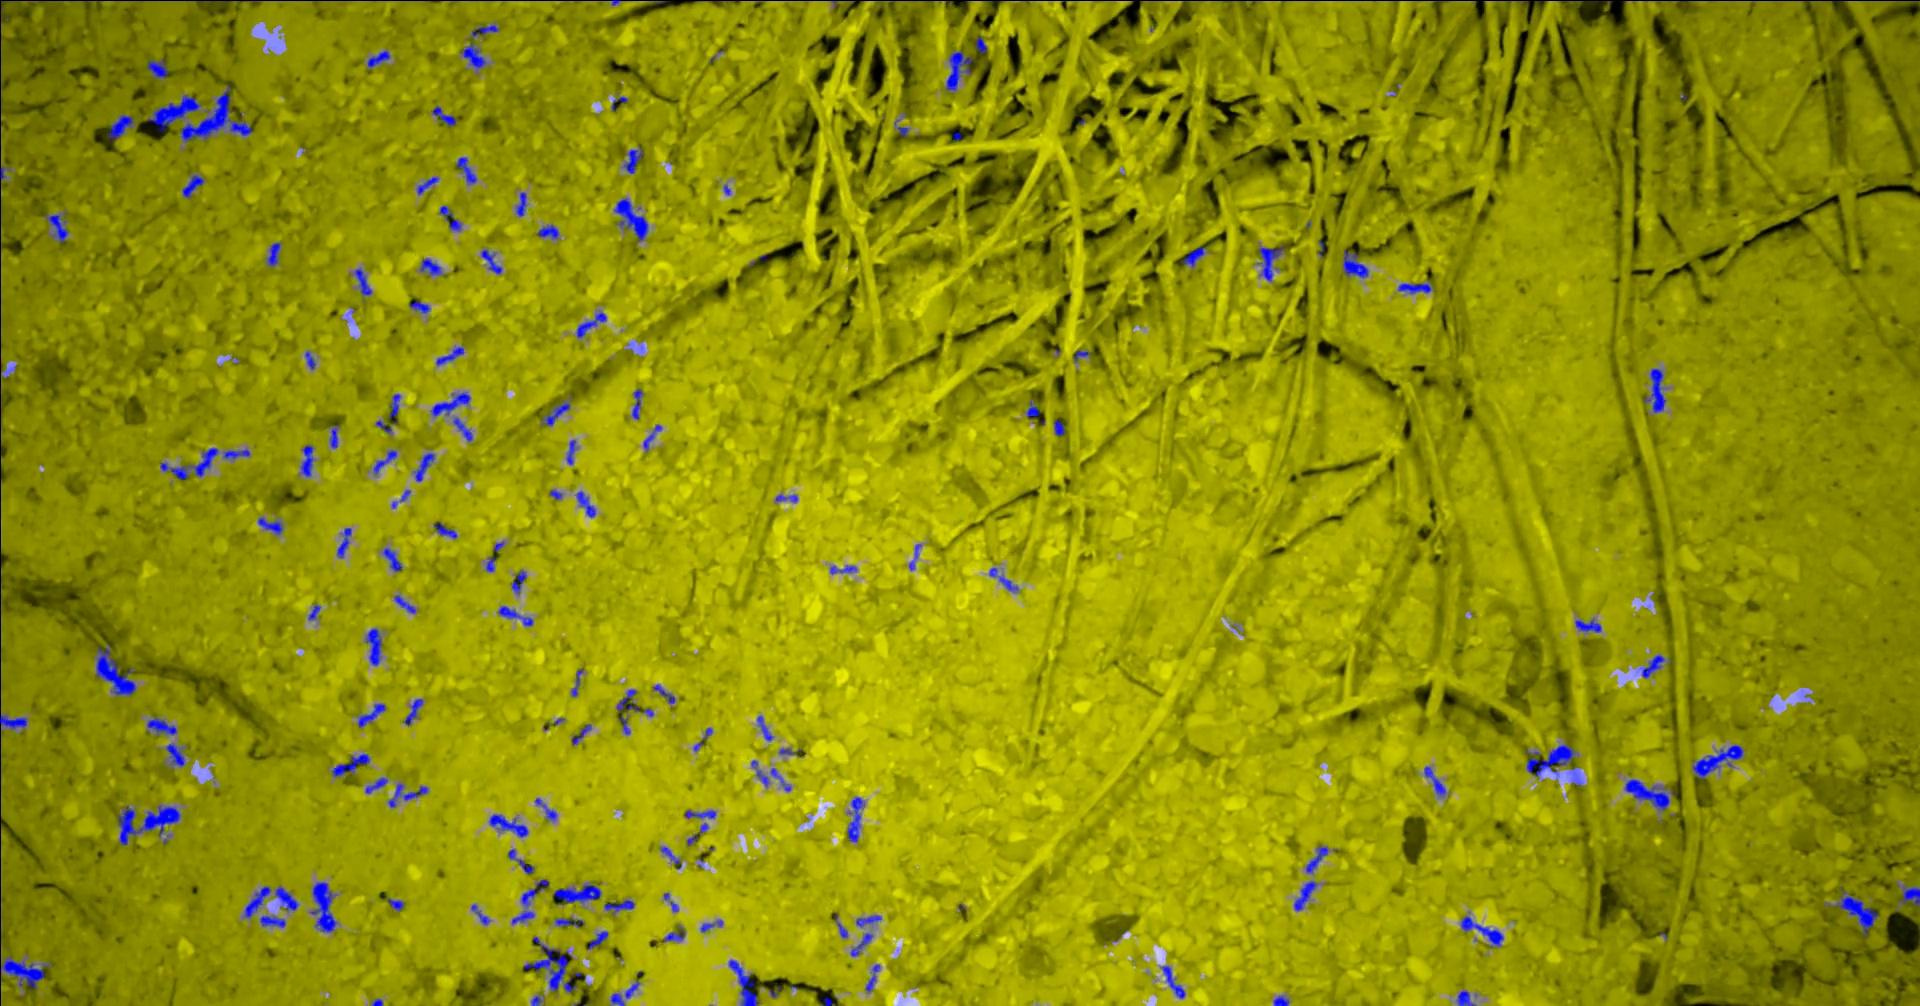ant: (524, 936, 578, 992), (119, 805, 182, 843), (97, 644, 137, 695), (149, 94, 202, 131), (1837, 890, 1879, 936), (161, 447, 220, 479), (1694, 744, 1745, 779), (462, 24, 500, 69), (1, 956, 53, 988), (513, 879, 550, 923), (1528, 743, 1577, 776), (1625, 779, 1676, 810), (615, 197, 650, 241), (1462, 915, 1505, 948), (311, 882, 338, 932), (730, 959, 759, 1005), (947, 51, 974, 90), (618, 688, 655, 716), (1258, 245, 1286, 281), (1644, 368, 1667, 412), (390, 782, 429, 807), (432, 392, 472, 415), (554, 884, 602, 903), (333, 753, 371, 776), (490, 814, 530, 836), (245, 885, 272, 917), (848, 796, 866, 841), (578, 311, 608, 337), (499, 605, 535, 626), (1163, 965, 1186, 998), (612, 979, 641, 1005), (1641, 654, 1672, 677), (44, 213, 70, 241), (1343, 249, 1369, 277), (990, 567, 1020, 591), (1295, 880, 1319, 909), (1425, 766, 1448, 796), (543, 401, 571, 426), (359, 702, 387, 727), (509, 848, 536, 873), (1307, 845, 1330, 873), (414, 452, 436, 481), (367, 627, 383, 666), (110, 114, 136, 138), (441, 205, 463, 231), (375, 448, 397, 474), (276, 887, 300, 909), (457, 156, 477, 183), (437, 345, 465, 365), (536, 796, 557, 821), (852, 932, 874, 956), (149, 716, 178, 734), (433, 105, 458, 126), (405, 699, 424, 725), (356, 267, 373, 295), (183, 174, 204, 197), (483, 249, 503, 273), (383, 547, 404, 572), (772, 767, 792, 791), (625, 147, 644, 173), (644, 424, 663, 450), (578, 492, 597, 517), (752, 760, 770, 786), (662, 846, 683, 868), (338, 527, 353, 558), (1399, 279, 1432, 293), (1183, 246, 1208, 265), (455, 417, 474, 441), (695, 727, 714, 751), (1, 714, 29, 729), (259, 517, 284, 533), (758, 715, 775, 741), (149, 58, 170, 77), (395, 594, 417, 614), (654, 683, 676, 702), (573, 723, 592, 744), (168, 743, 185, 766), (302, 445, 315, 476), (604, 899, 636, 912), (390, 392, 403, 423), (589, 930, 610, 949), (370, 50, 391, 67), (418, 177, 439, 194), (436, 522, 458, 539), (1576, 619, 1603, 633), (867, 964, 881, 991), (632, 387, 644, 419), (472, 904, 491, 923), (422, 258, 443, 274), (573, 668, 585, 696), (538, 224, 560, 239), (367, 777, 389, 793), (262, 915, 287, 927), (268, 243, 282, 265), (513, 570, 527, 593), (1902, 887, 1920, 904), (665, 926, 686, 941), (556, 917, 585, 927), (517, 191, 528, 216), (857, 915, 883, 926), (1458, 989, 1477, 1005), (686, 809, 717, 818), (410, 300, 432, 312), (702, 920, 724, 932), (225, 448, 251, 459), (830, 565, 858, 574), (977, 36, 989, 53), (306, 351, 317, 370), (331, 424, 340, 448), (568, 439, 577, 464), (389, 898, 406, 909), (1029, 401, 1041, 417), (377, 420, 392, 433), (1055, 419, 1065, 436), (1275, 995, 1291, 1005), (777, 494, 799, 502), (488, 556, 497, 572), (197, 0, 262, 1)
